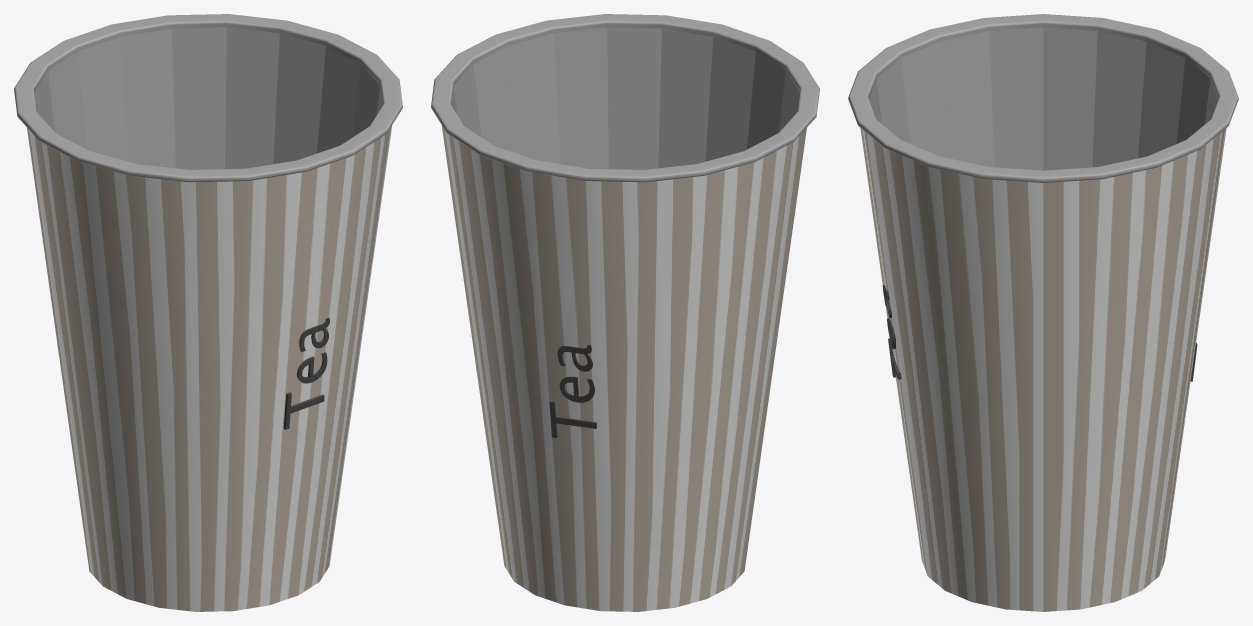
File: CupTea.fbx
3 views of the same model, side by side, from view 1: azimuth 30°, elevation 25°; view 2: azimuth 150°, elevation 25°; view 3: azimuth 270°, elevation 25° (orthographic).
Parts seen in each view (by area): view 1: polySurface7, typeMesh6; view 2: polySurface7, typeMesh5; view 3: polySurface7, typeMesh6.
Part boxes in pixels (x1=…): polySurface7: x1=14, y1=14, x2=402, y2=611; typeMesh6: x1=283, y1=317, x2=329, y2=429; polySurface7: x1=431, y1=14, x2=819, y2=611; typeMesh5: x1=549, y1=345, x2=596, y2=437; polySurface7: x1=848, y1=14, x2=1238, y2=611; typeMesh6: x1=882, y1=285, x2=901, y2=379.
Bounding box in the file's own units: 7.71 × 10.12 × 7.71.
3 materials, 1 textured.
